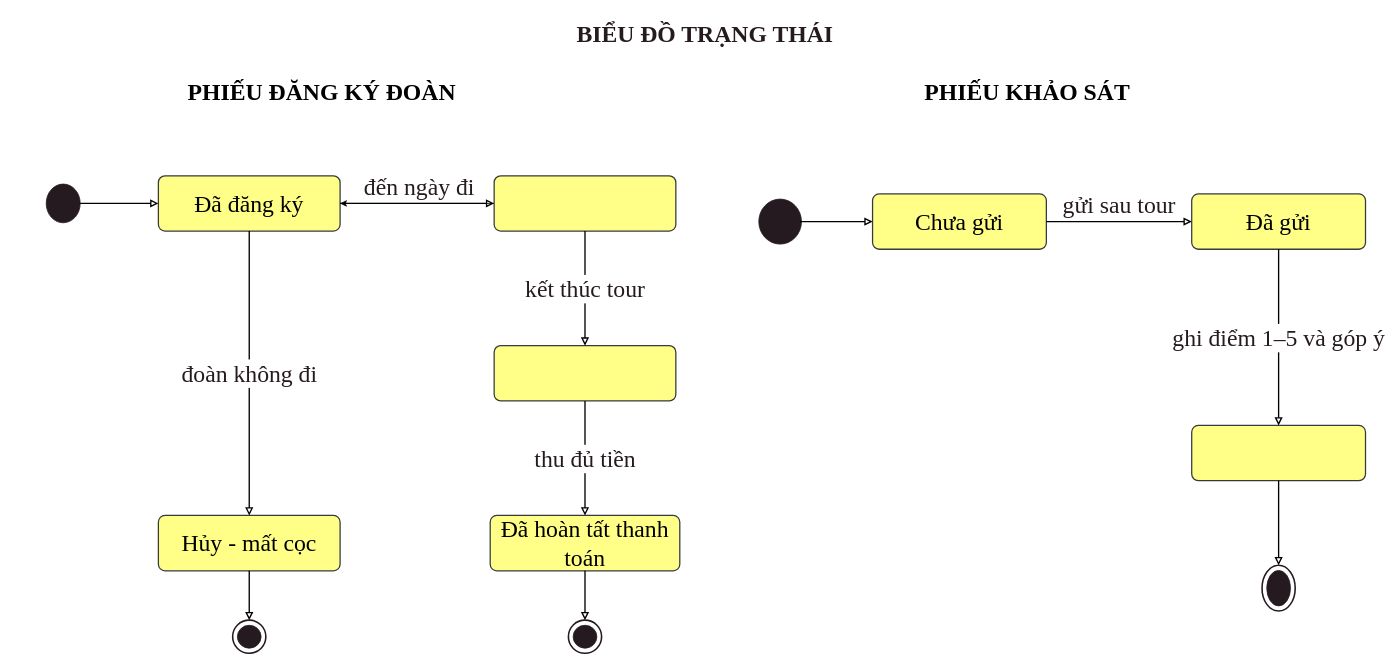
This 1398x668 diagram has some shape labels left out. Here are the shapes that lost their labels. From the top down, the centre of each, then its label:
At (584,203): "Đang đi tour".
At (584,373): "Chờ thanh toán".
At (1278,452): "Đã phản hồi".
